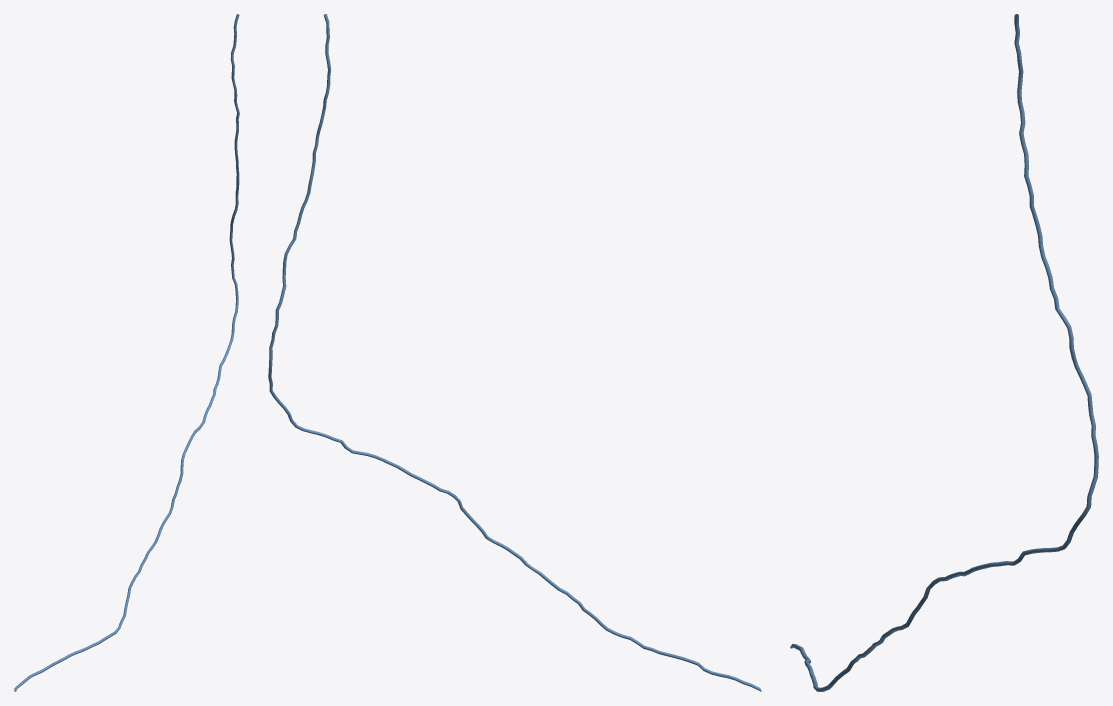
File: sweep137.fbx
The picture shows the model from 3 angles, left to right: view 1: azimuth 30°, elevation 25°; view 2: azimuth 150°, elevation 25°; view 3: azimuth 270°, elevation 25°; orthographic projection. The views are drawn at different scales.
Visible parts, largest first — view 1: sweep137; view 2: sweep137; view 3: sweep137.
Part boxes in pixels (<box>): sweep137: <box>14,14,239,691</box>; sweep137: <box>268,14,761,691</box>; sweep137: <box>790,14,1098,691</box>.
Size of the model in its own units: 2.56 by 4.24 by 1.38.
